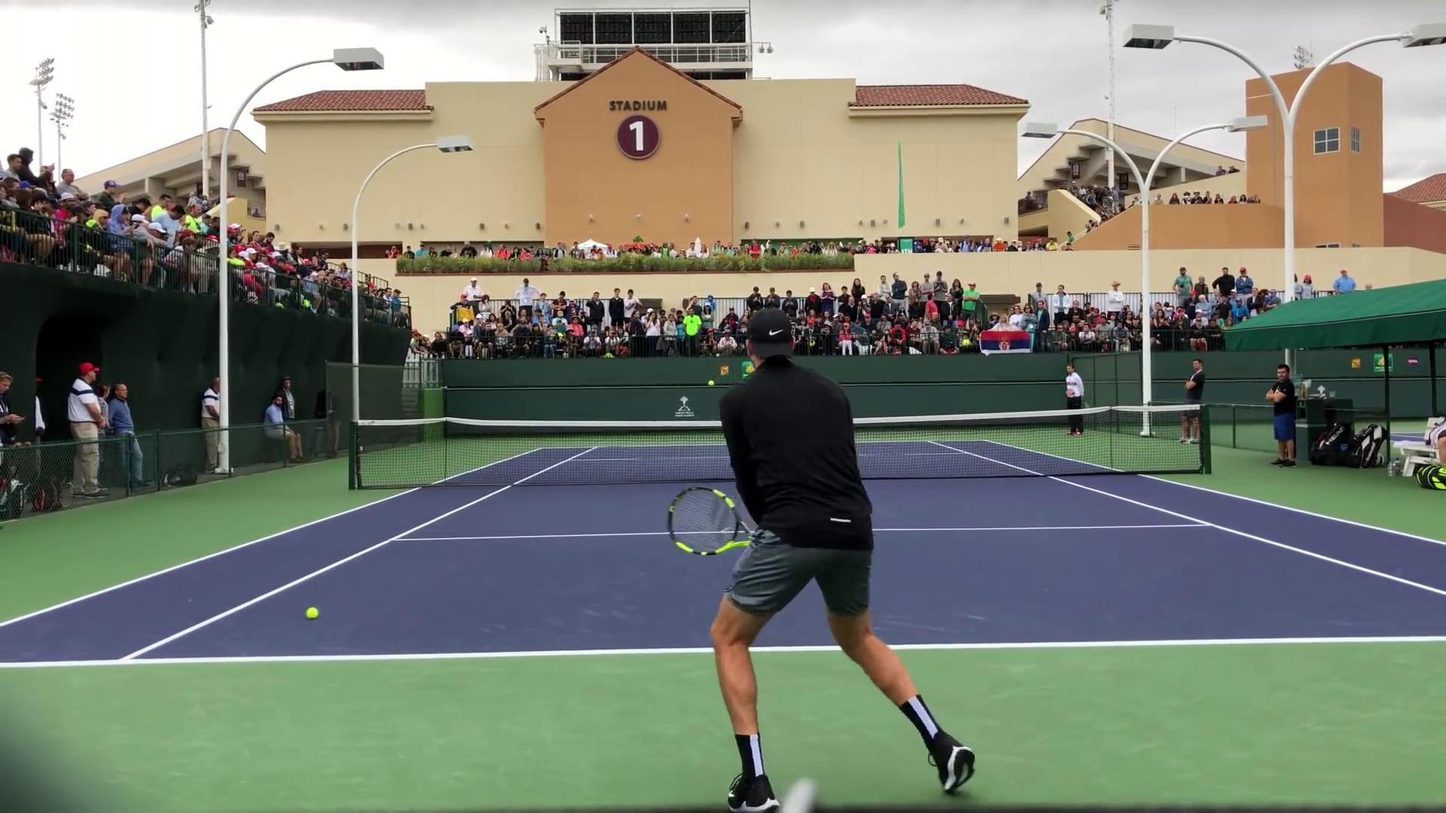ball: (304, 605, 319, 619), (706, 380, 715, 386)
